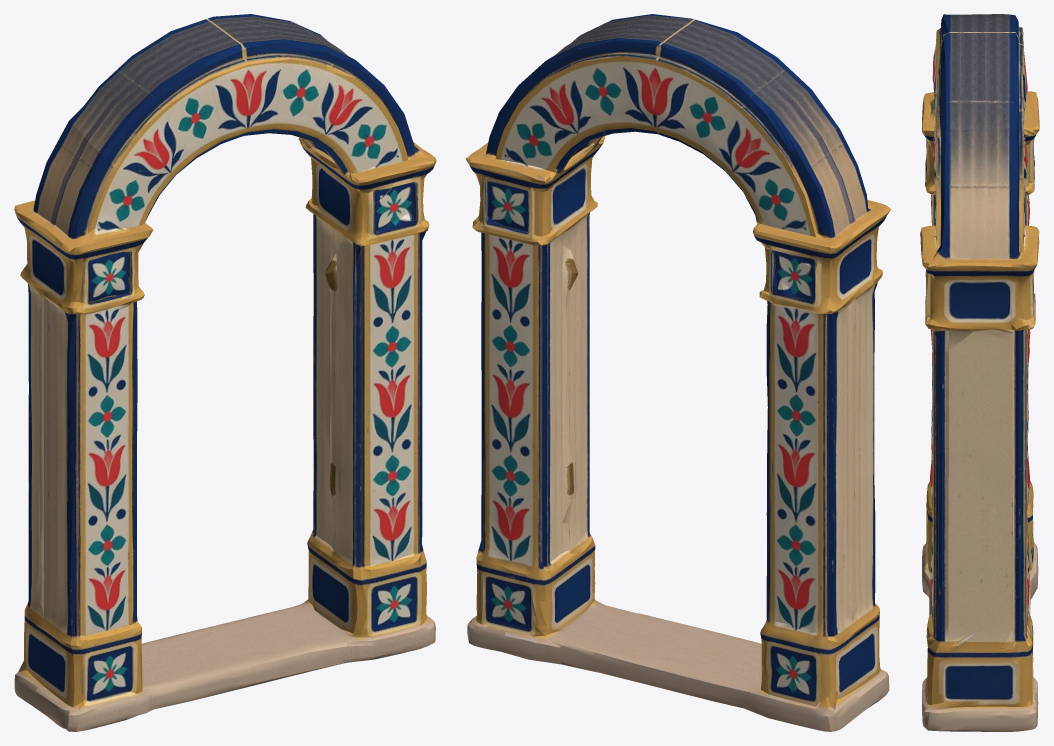
Rendered from masal-kapisi.glb.
3 renders of one model, left to right at view 1: azimuth 30°, elevation 25°; view 2: azimuth 150°, elevation 25°; view 3: azimuth 270°, elevation 25°, orthographic. The views are drawn at different scales.
Parts seen in each view (by area): view 1: Mesh0; view 2: Mesh0; view 3: Mesh0.
Boxes of the visible parts, box(x1,y1,x2,y2) form: Mesh0: box(14, 14, 436, 731); Mesh0: box(465, 14, 891, 731); Mesh0: box(920, 14, 1039, 731).
Bounding box in the file's own units: 1.16 × 1.9 × 0.3356.
1 material, 1 textured.
